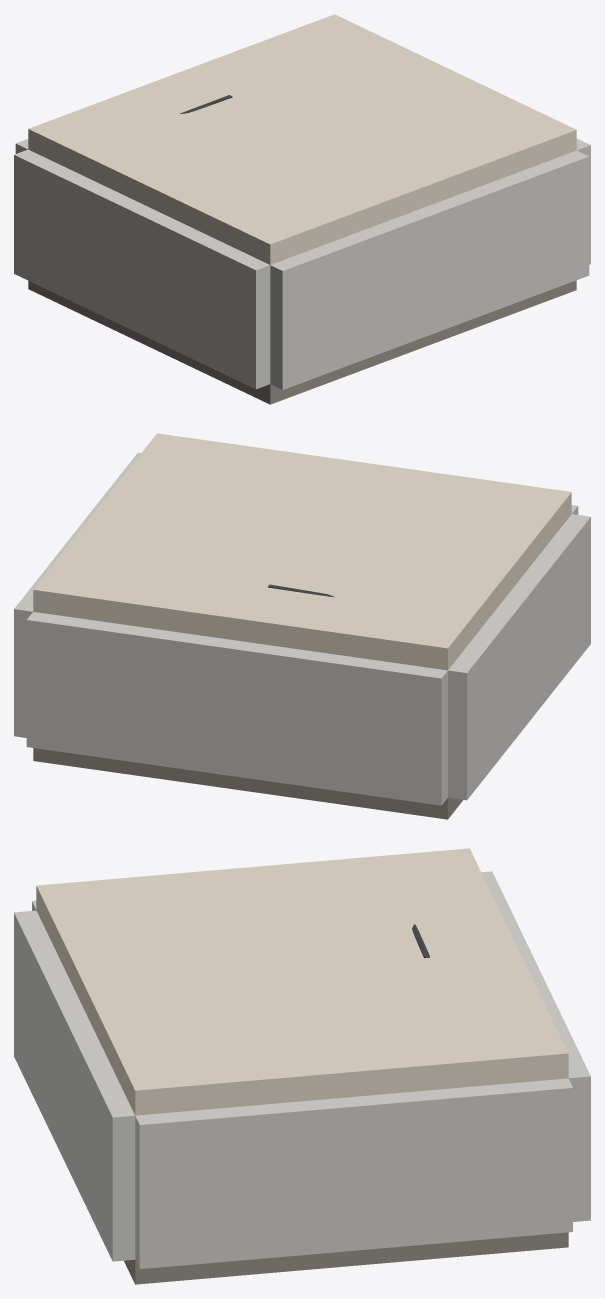
3 views of the same model, one above another, from view 1: azimuth 30°, elevation 25°; view 2: azimuth 150°, elevation 25°; view 3: azimuth 270°, elevation 25° (orthographic). The views are drawn at different scales.
Visible parts, largest first — view 1: Ceiling, Wall_01, Wall_04, Floor; view 2: Ceiling, Wall_03, Wall_04, Floor, Wall_02; view 3: Ceiling, Wall_02, Wall_01, Floor, Wall_03.
Boxes of the visible parts, x1,y1,x2,y2 form: Ceiling: (28,14,576,264); Wall_01: (270,150,589,389); Wall_04: (14,149,270,389); Floor: (28,280,576,404); Ceiling: (33,433,571,670); Wall_03: (26,612,447,805); Wall_04: (448,514,590,800); Floor: (33,748,462,819); Wall_02: (14,452,140,737); Ceiling: (36,848,568,1115); Wall_02: (135,1078,572,1269); Wall_01: (14,910,135,1261); Floor: (124,1232,568,1284); Wall_03: (481,871,590,1221).
Bounding box in the file's own units: 6.74 × 2.35 × 6.29.
Materials: 16 (13 with a texture image).
